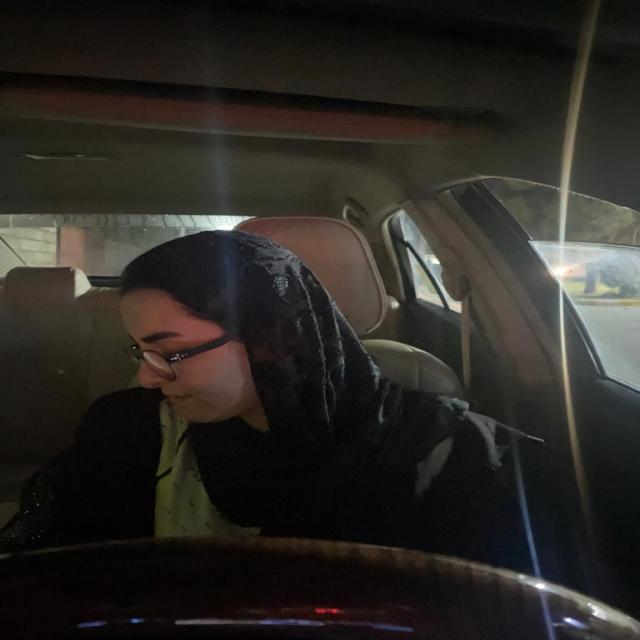LeftRight: (105, 220, 309, 441)
